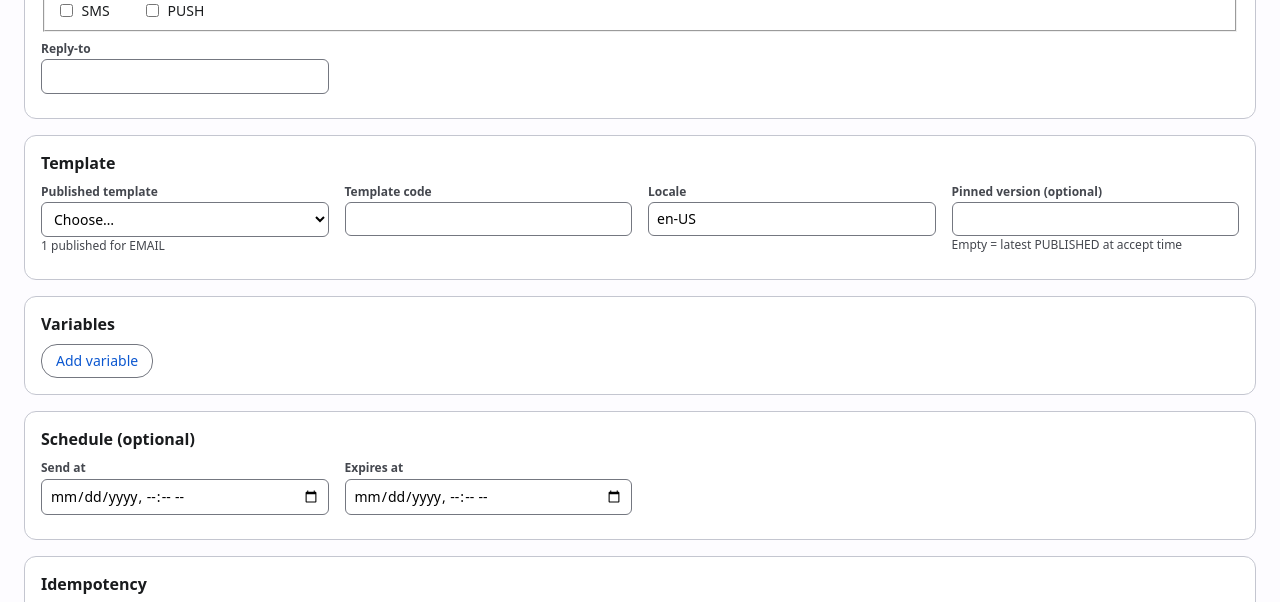
Test: submit message page › variable rows can be added and removed
The image size is (1280, 602).
(page scrolled)
Click the button "Add variable" at (97, 361), box [41,344,153,378]
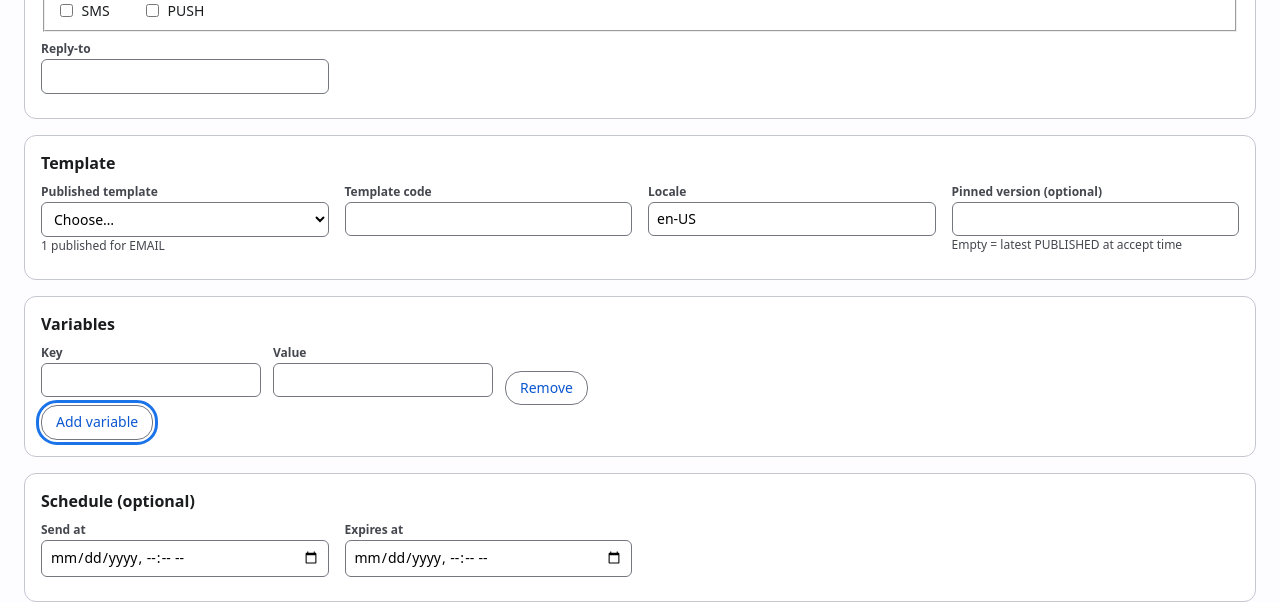
Click the button "Add variable" at (97, 423), box [41,405,153,440]
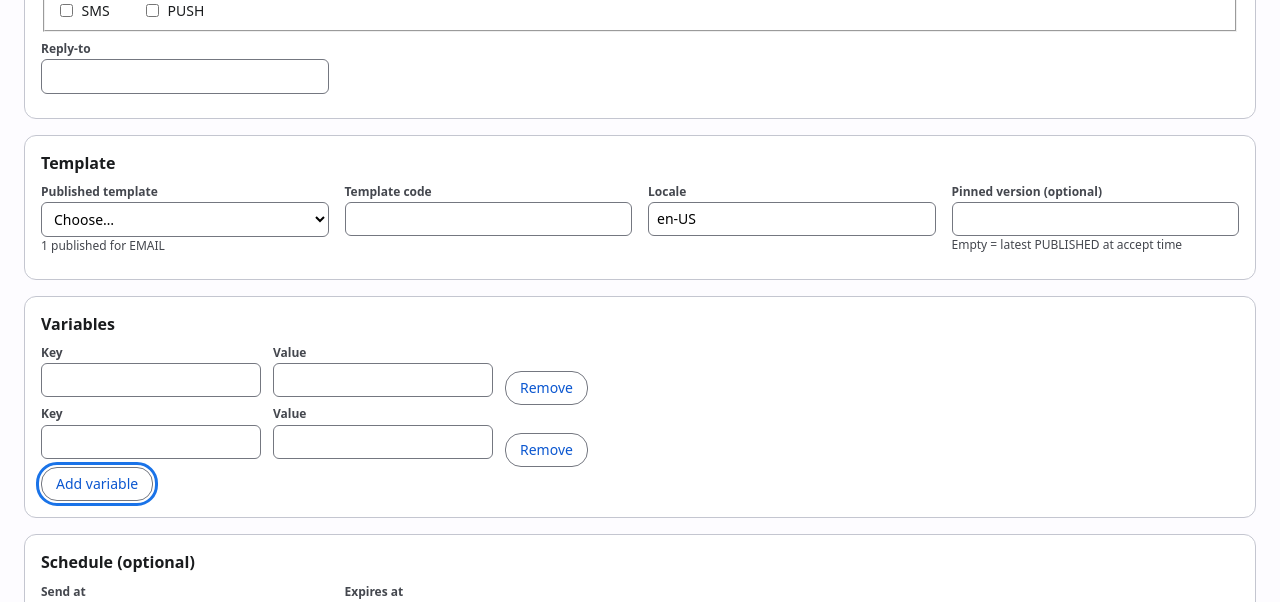
Check: the number of buttons named "Remove variable" is 2
Click the button with aria-label "Remove variable 1" at (546, 388), box [505,371,588,405]
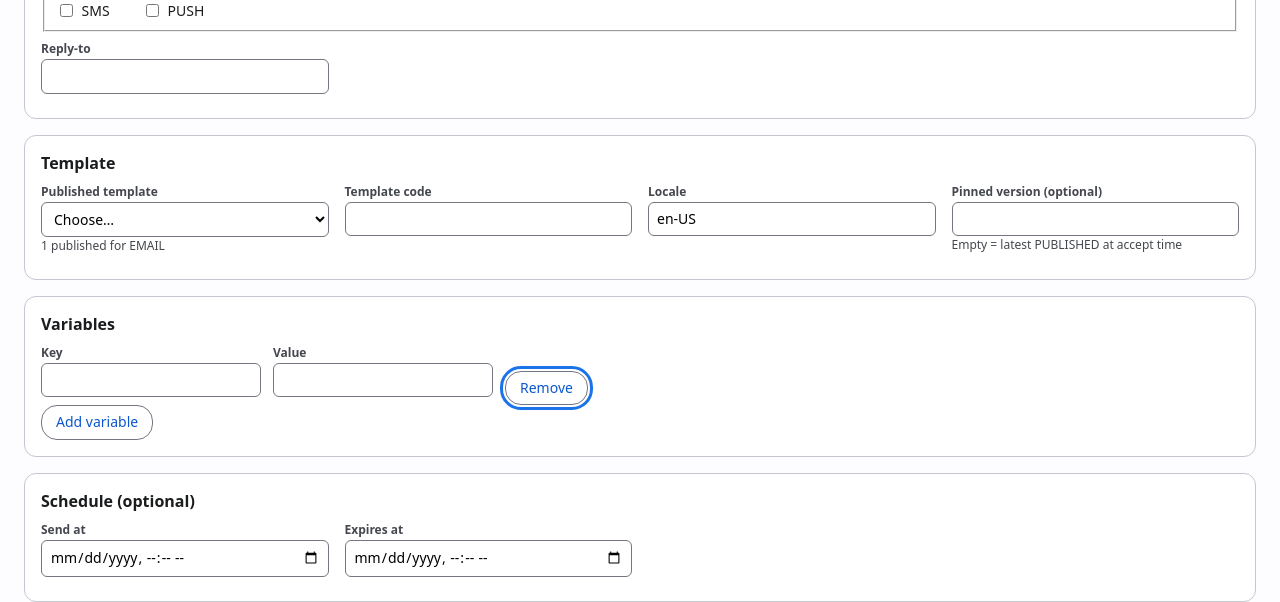
Check: the number of buttons named "Remove variable" is 1, box [505,371,588,405]
